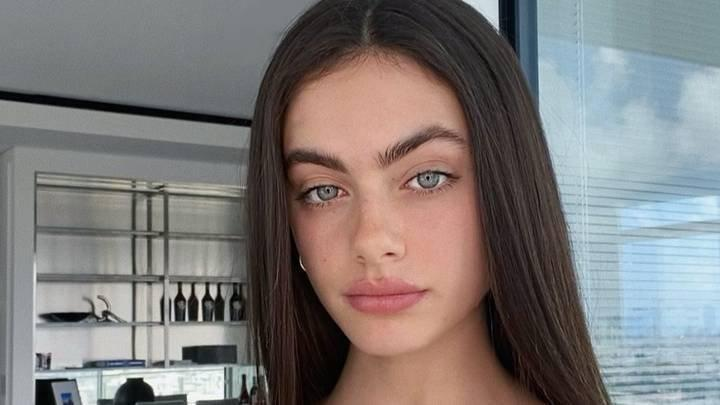Sober: (288, 77, 472, 345)
